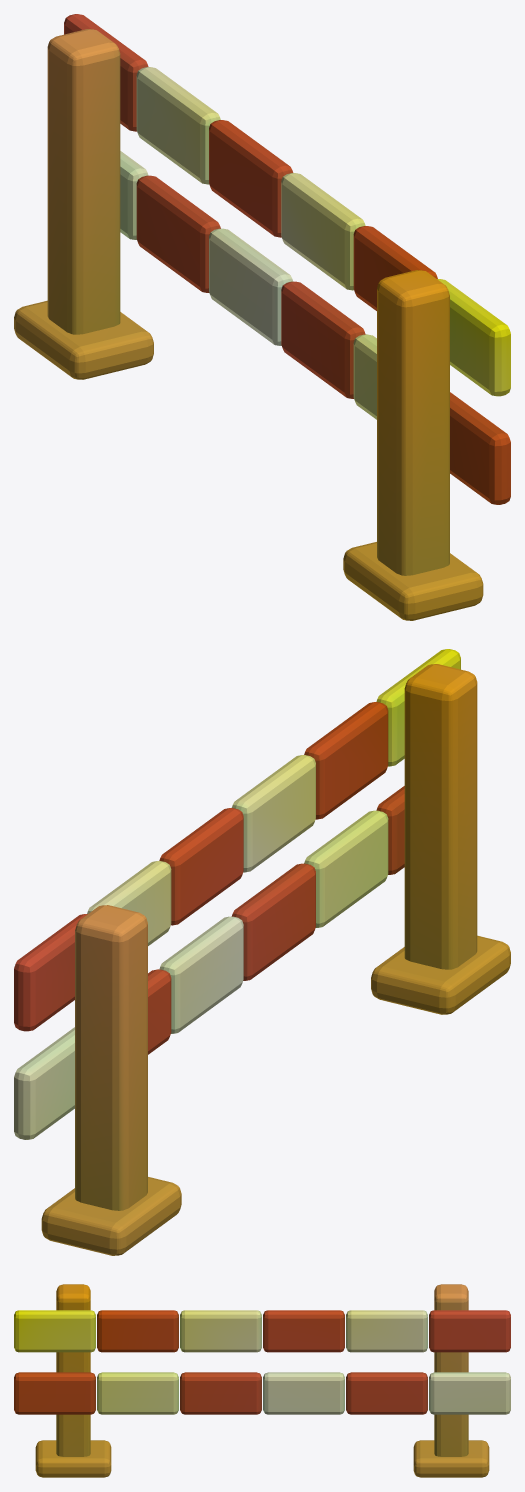
The model's file is Prop_Barrier.glb.
3 views of the same model, one above another, from view 1: azimuth 30°, elevation 25°; view 2: azimuth 150°, elevation 25°; view 3: azimuth 270°, elevation 25° (orthographic). The views are drawn at different scales.
Visible parts, largest first — view 1: Prop_Barrier; view 2: Prop_Barrier; view 3: Prop_Barrier.
Boxes of the visible parts, x1,y1,x2,y2 form: Prop_Barrier: [14, 14, 510, 620]; Prop_Barrier: [14, 649, 510, 1255]; Prop_Barrier: [14, 1284, 510, 1477].
Bounding box in the file's own units: 0.35 × 1.15 × 2.89.
